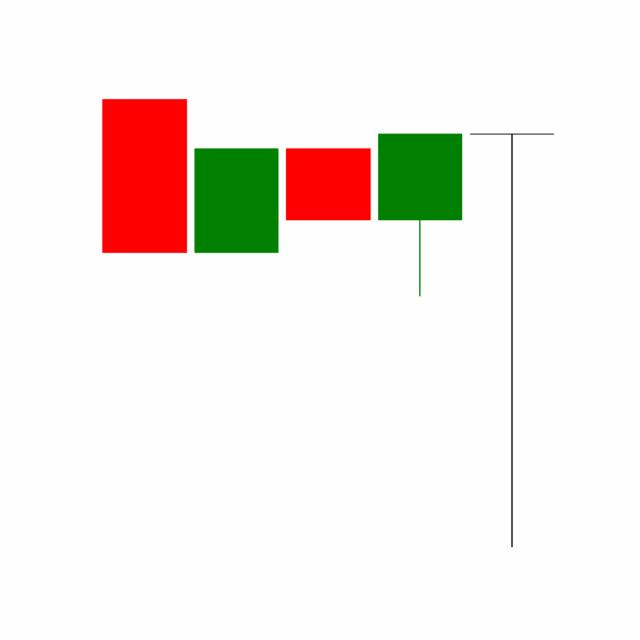Hanging Man: (464, 129, 558, 552)
